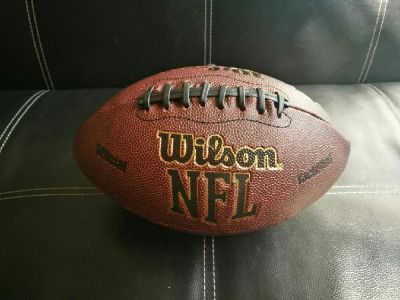futbol americano: (73, 65, 348, 237)
